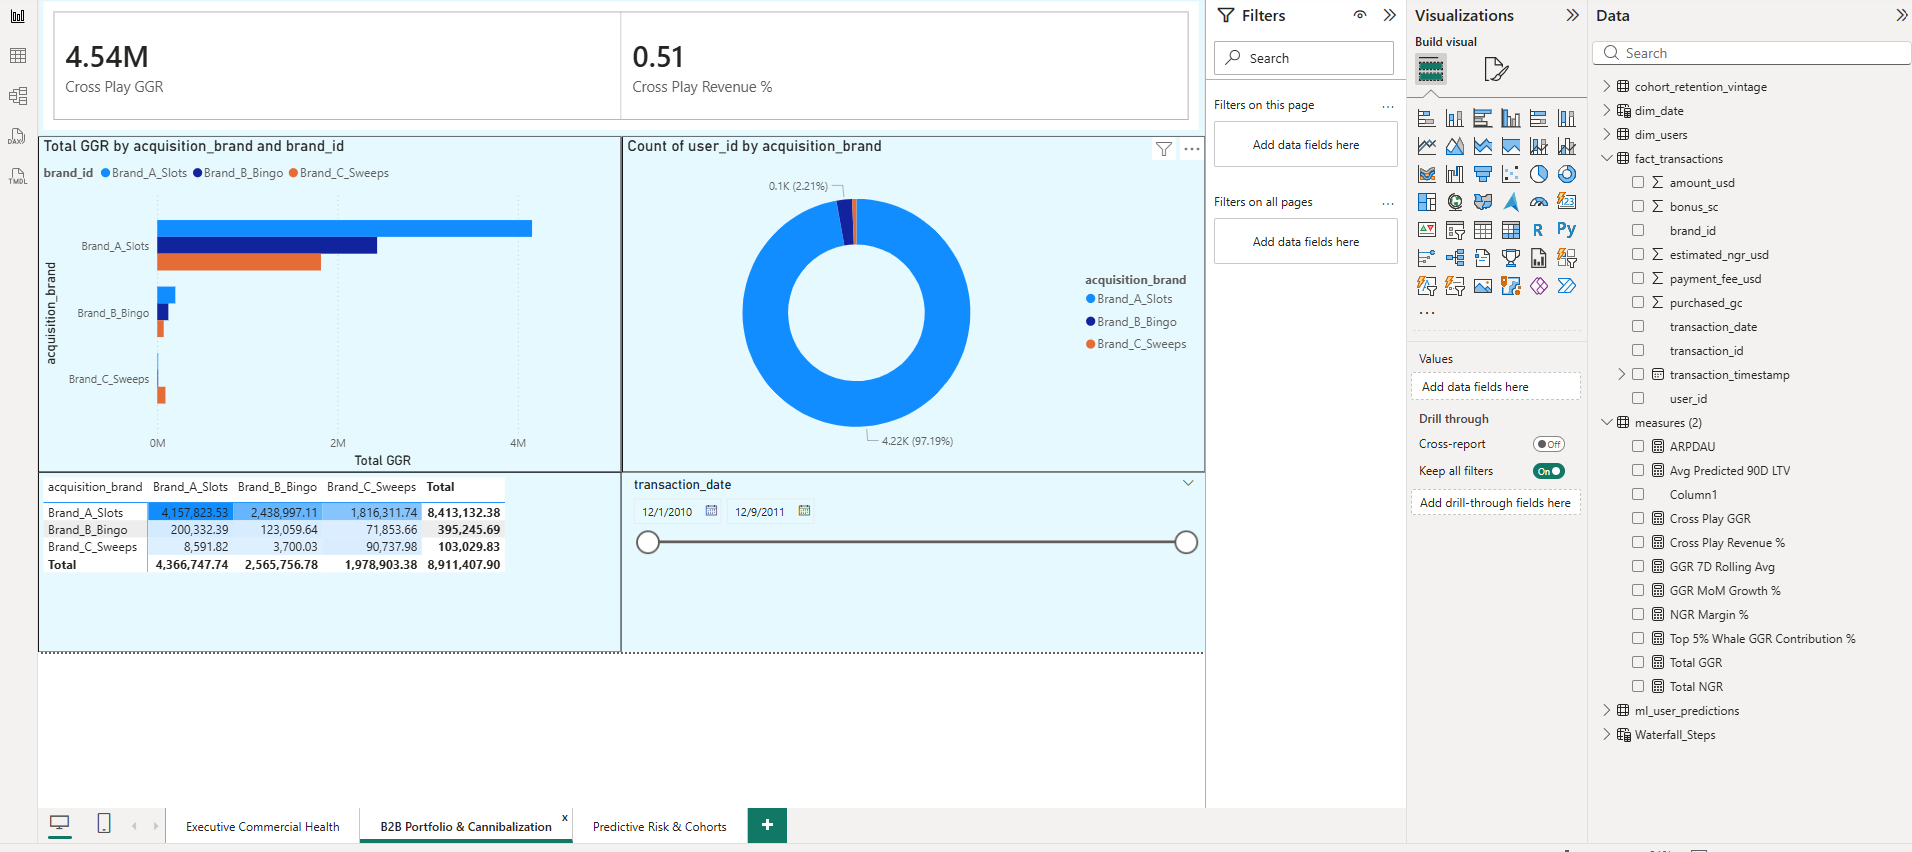

Layout of this report page (visuals, bound fields, positions):
{"tool":"powerbi","page":{"name":"B2B Portfolio & Cannibalization","canvas":[1280,720],"ordinal":1},"visuals":[{"type":"pivotTable","fields":{"Rows":["dim_users.acquisition_brand"],"Columns":["fact_transactions.brand_id"],"Values":["measures (2).Total GGR"]},"box":[0,522.6,640.2,197.6],"z":0},{"type":"donutChart","fields":{"Category":["dim_users.acquisition_brand"],"Y":["CountNonNull(dim_users.user_id)"]},"box":[640.2,153.5,640.2,369.1],"z":1000},{"type":"clusteredBarChart","fields":{"Category":["dim_users.acquisition_brand"],"Y":["measures (2).Total GGR"],"Series":["fact_transactions.brand_id"]},"box":[0,153.5,640.2,369.1],"z":2000},{"type":"cardVisual","fields":{"Data":["measures (2).Cross Play GGR","measures (2).Cross Play Revenue %"]},"box":[0,0,1280.3,153.5],"z":3000},{"type":"slicer","fields":{"Values":["fact_transactions.transaction_date"]},"box":[640,523,640,197],"z":3001}]}

Visuals, with their boxes on the page's 1280x720 design canvas (x1, y1, x2, y2). These are canvas units, not pixel positions in the 1912x852 screenshot, which may show the page scaled, cropped or inside an application window:
pivotTable - dim_users.acquisition_brand x fact_transactions.brand_id: <box>0,523,640,720</box>
donutChart - dim_users.acquisition_brand x CountNonNull(dim_users.user_id): <box>640,154,1280,523</box>
clusteredBarChart - dim_users.acquisition_brand x measures (2).Total GGR: <box>0,154,640,523</box>
cardVisual - measures (2).Cross Play GGR x measures (2).Cross Play Revenue %: <box>0,0,1280,154</box>
slicer - fact_transactions.transaction_date: <box>640,523,1280,720</box>
